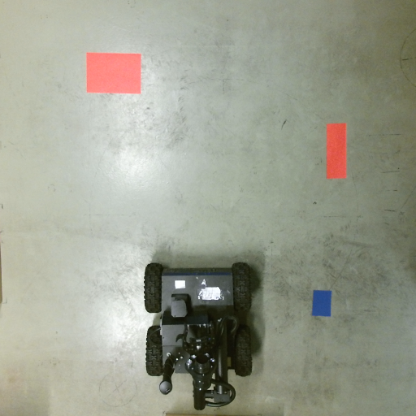Blue: (309, 289, 332, 318)
Jaguar: (140, 262, 258, 411)
Red: (83, 52, 144, 95), (323, 124, 348, 182)
